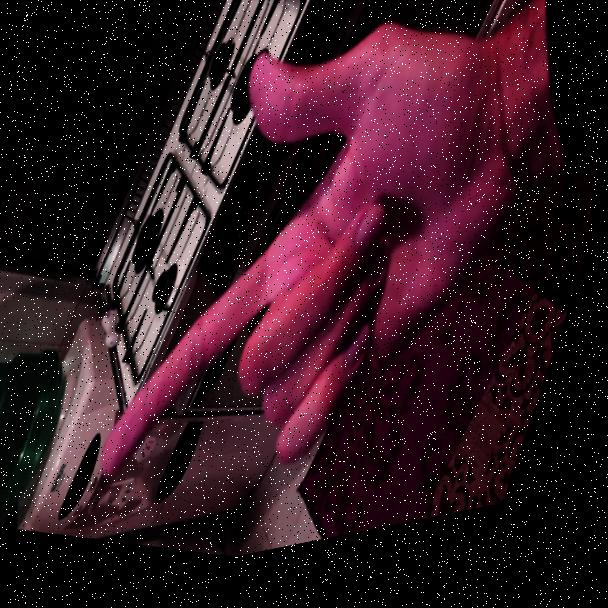five: (94, 0, 515, 566)
